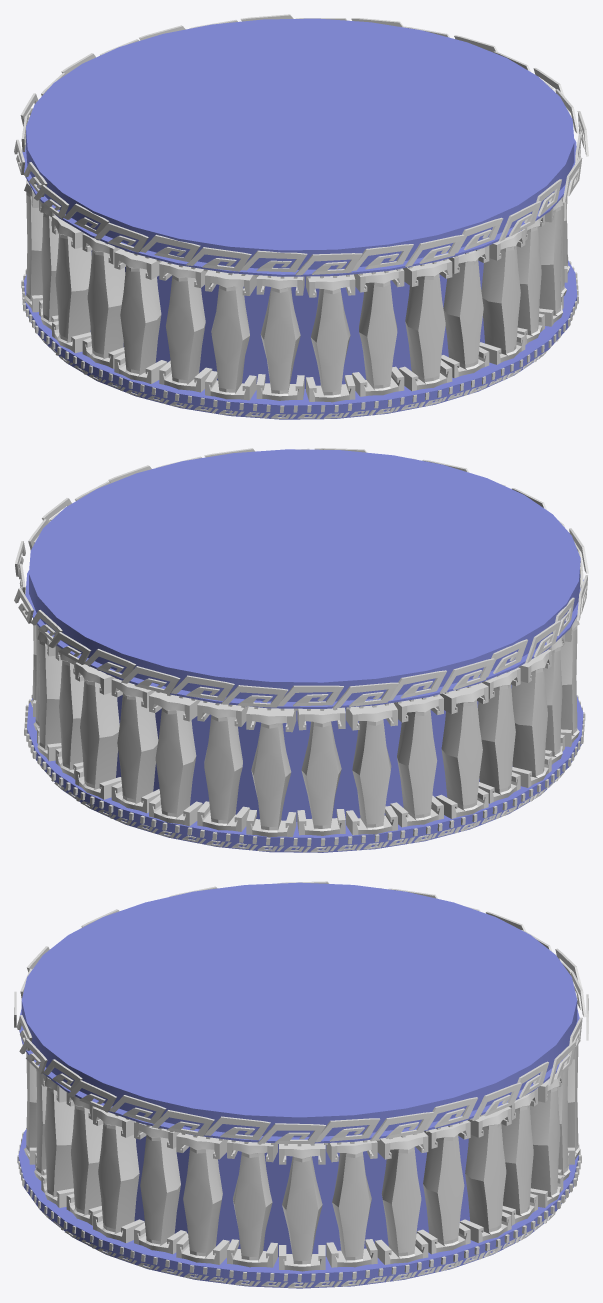
The model's file is breeze 2.fbx.
3 views of the same model, one above another, from view 1: azimuth 30°, elevation 25°; view 2: azimuth 150°, elevation 25°; view 3: azimuth 270°, elevation 25° (orthographic).
Visible parts, largest first — view 1: Cylinder.008, Circle.022, Circle.015, Circle.017, Circle.020, Circle.021; view 2: Cylinder.008, Circle.022, Circle.015, Circle.017, Circle.020, Circle.021; view 3: Cylinder.008, Circle.022, Circle.015, Circle.017, Circle.020, Circle.021.
Boxes of the visible parts, x1,y1,x2,y2 form: Cylinder.008: [22, 18, 577, 419]; Circle.022: [26, 195, 567, 391]; Circle.015: [24, 180, 569, 402]; Circle.017: [14, 14, 588, 275]; Circle.020: [21, 257, 578, 412]; Circle.021: [39, 336, 560, 418]; Cylinder.008: [25, 449, 583, 852]; Circle.022: [32, 624, 577, 826]; Circle.015: [30, 616, 579, 837]; Circle.017: [14, 448, 588, 708]; Circle.020: [24, 694, 585, 846]; Circle.021: [39, 764, 564, 852]; Cylinder.008: [18, 882, 579, 1288]; Circle.022: [26, 1046, 578, 1261]; Circle.015: [24, 1040, 580, 1271]; Circle.017: [14, 881, 588, 1143]; Circle.020: [17, 1127, 581, 1281]; Circle.021: [41, 1197, 566, 1287].
Size of the model in its own units: 8899 by 2953 by 8899.
